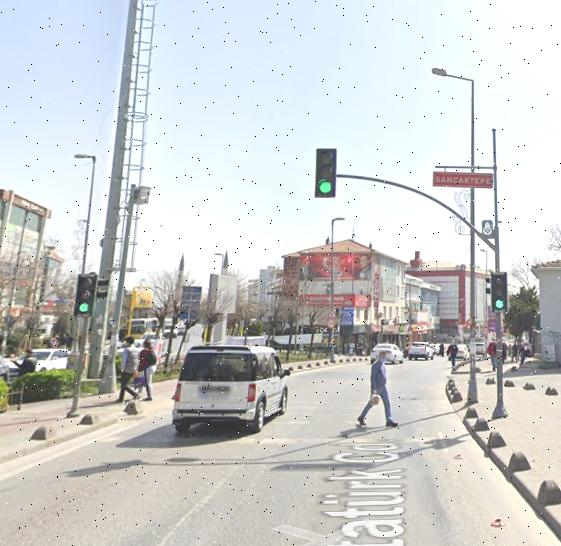greenlight: (311, 144, 343, 202), (72, 271, 99, 322), (487, 268, 513, 318)
